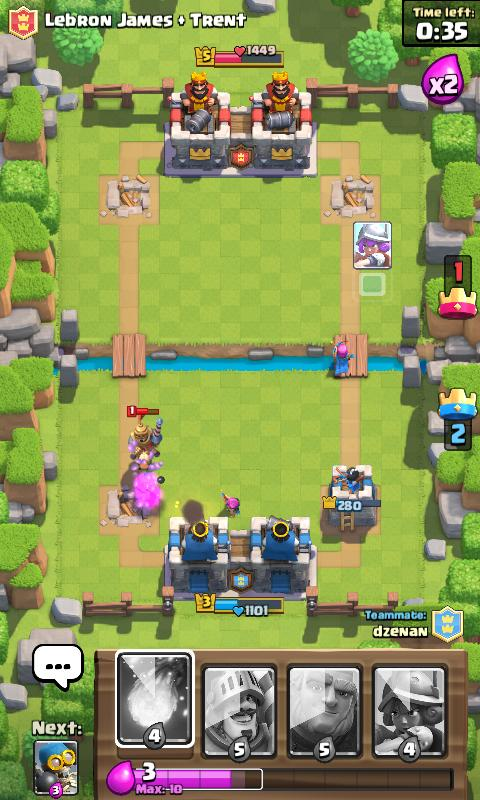ally_archer: (329, 338, 355, 375), (219, 489, 241, 517)
enemy_prince: (124, 404, 164, 470)
